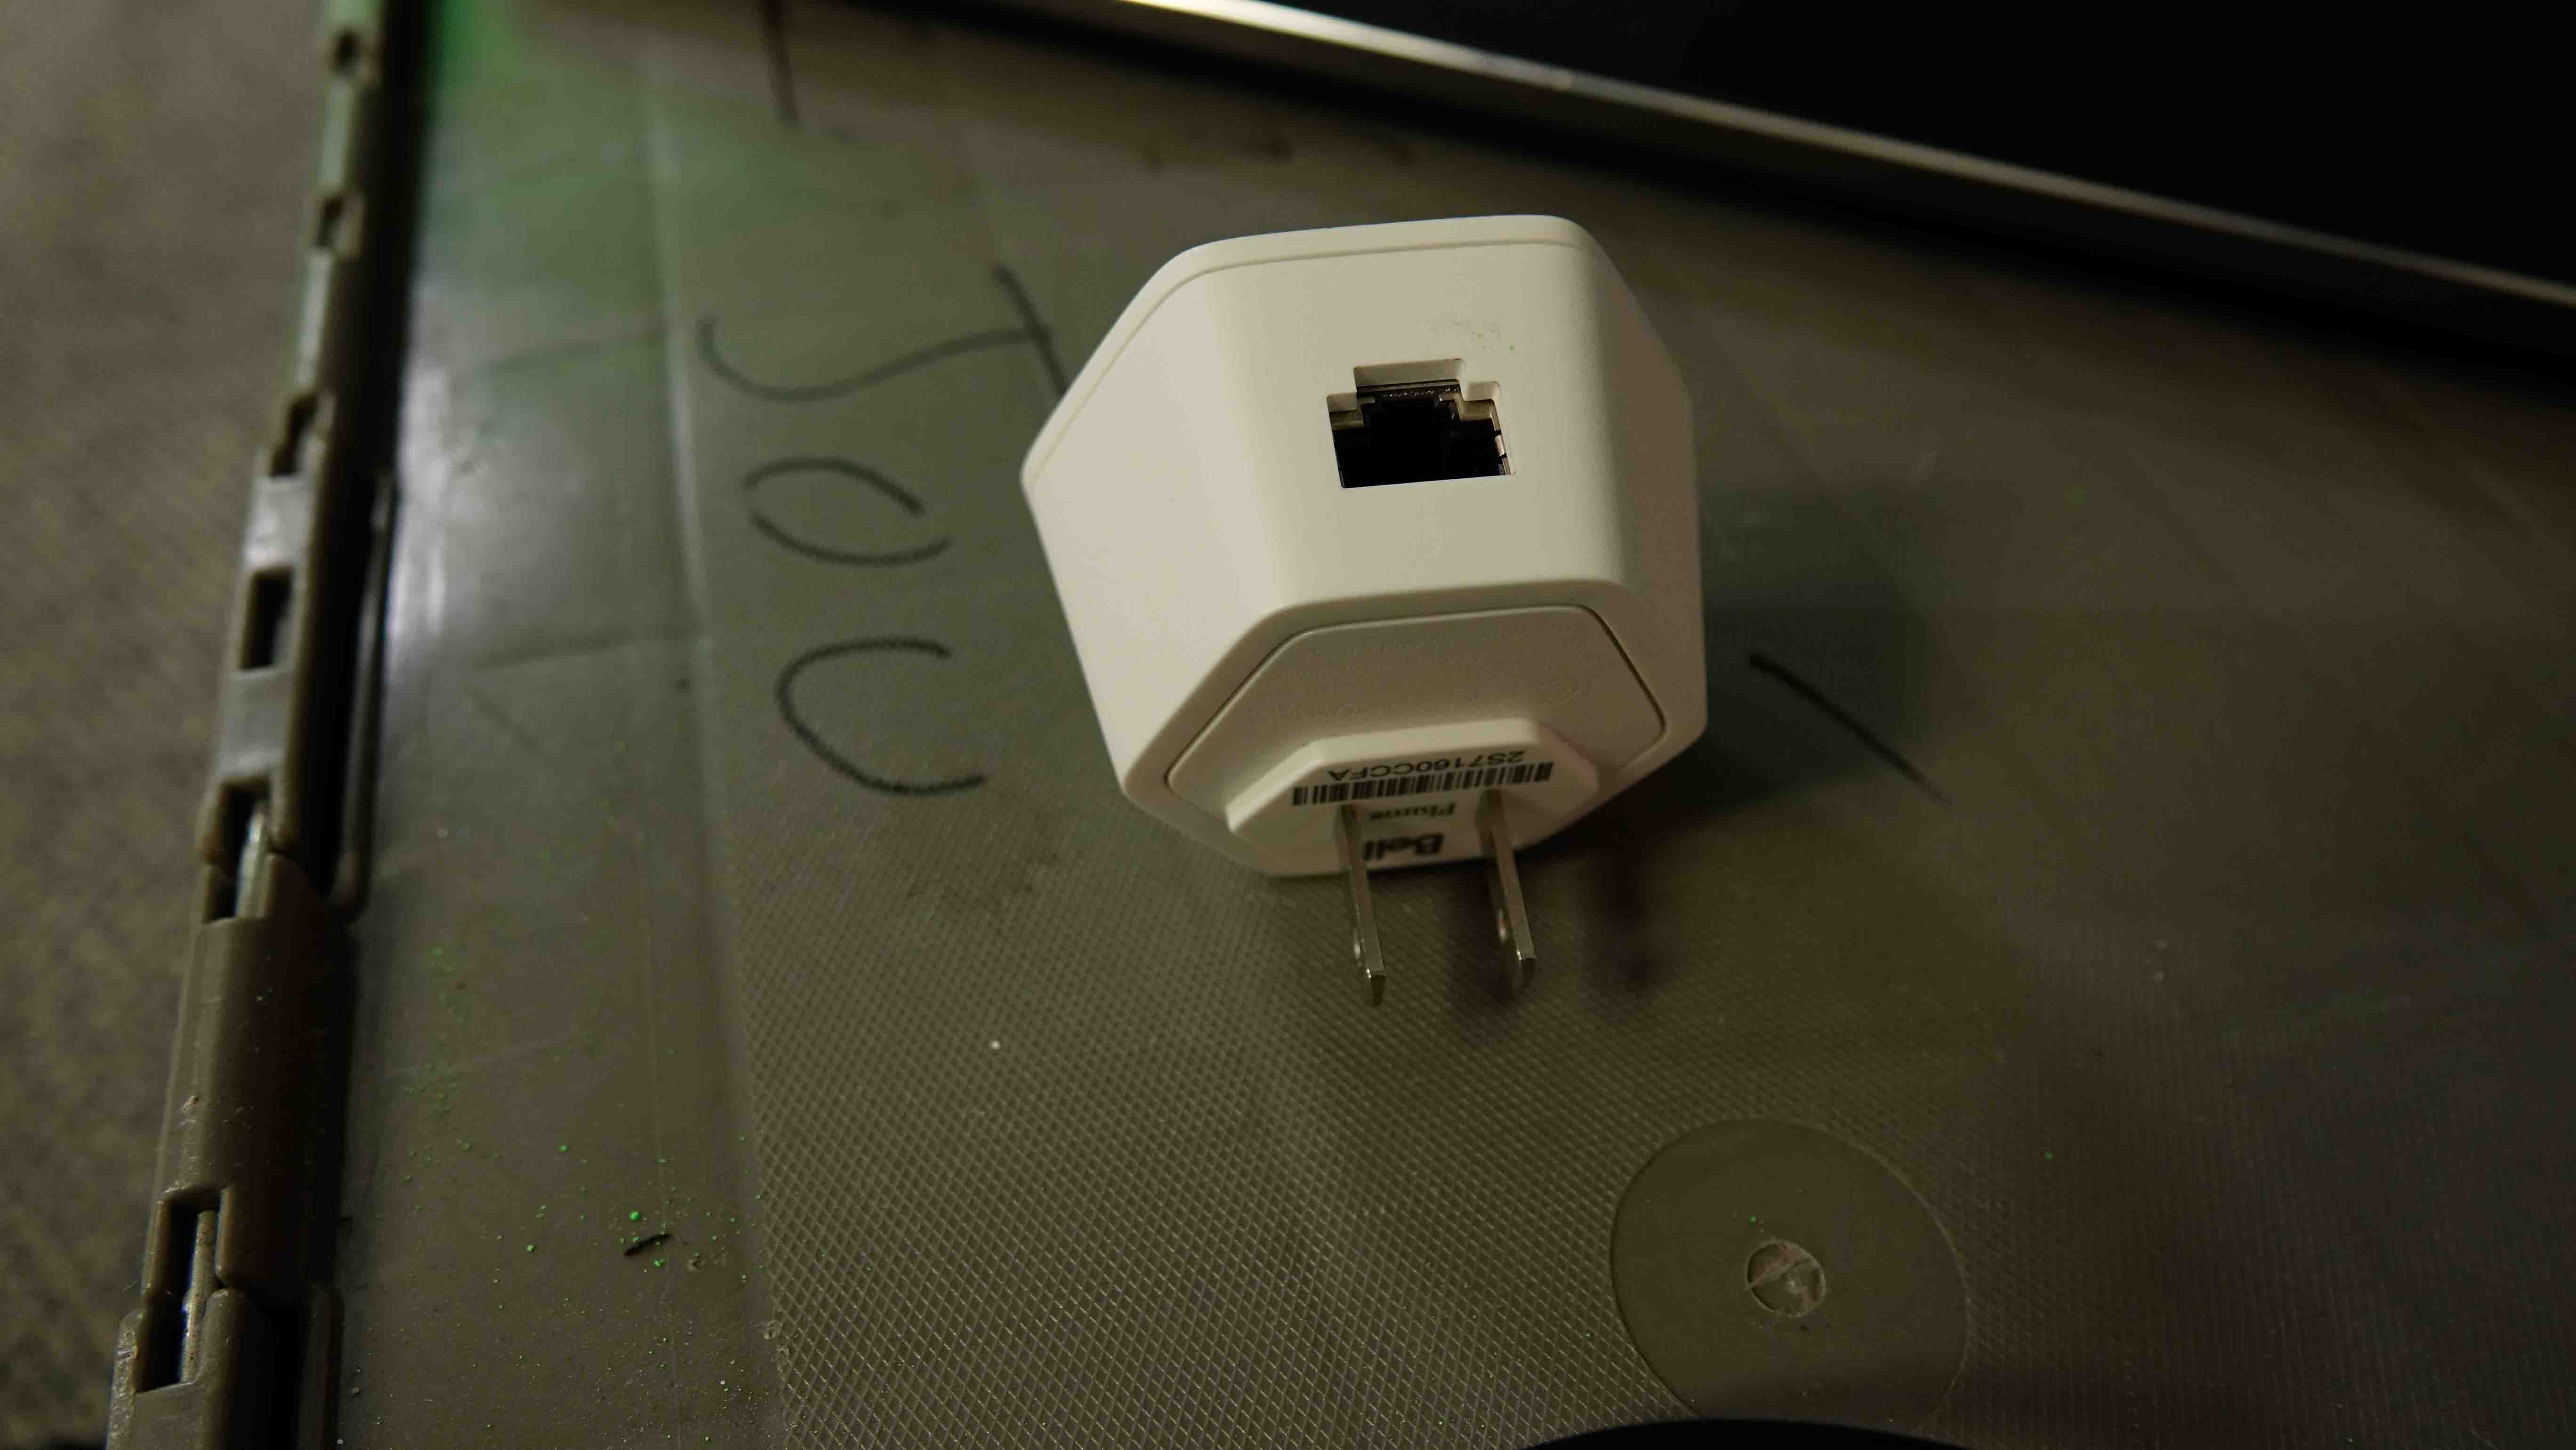pod: (1005, 203, 1737, 1019)
